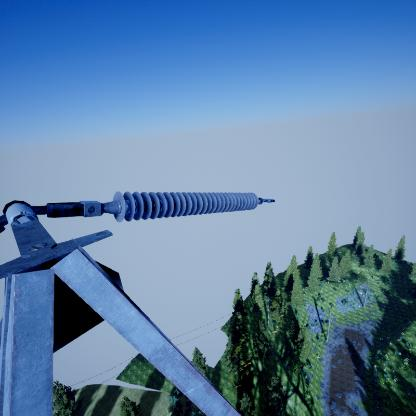insulator: (112, 190, 259, 225)
